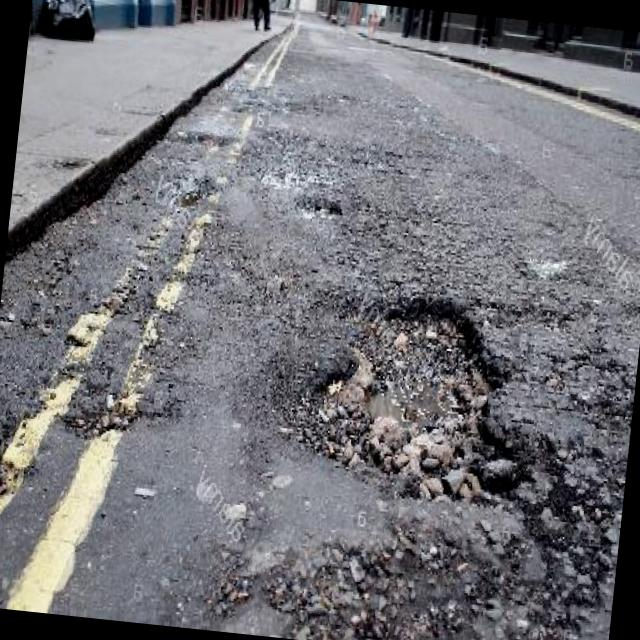Lubang: (296, 296, 526, 503), (296, 195, 342, 218)
